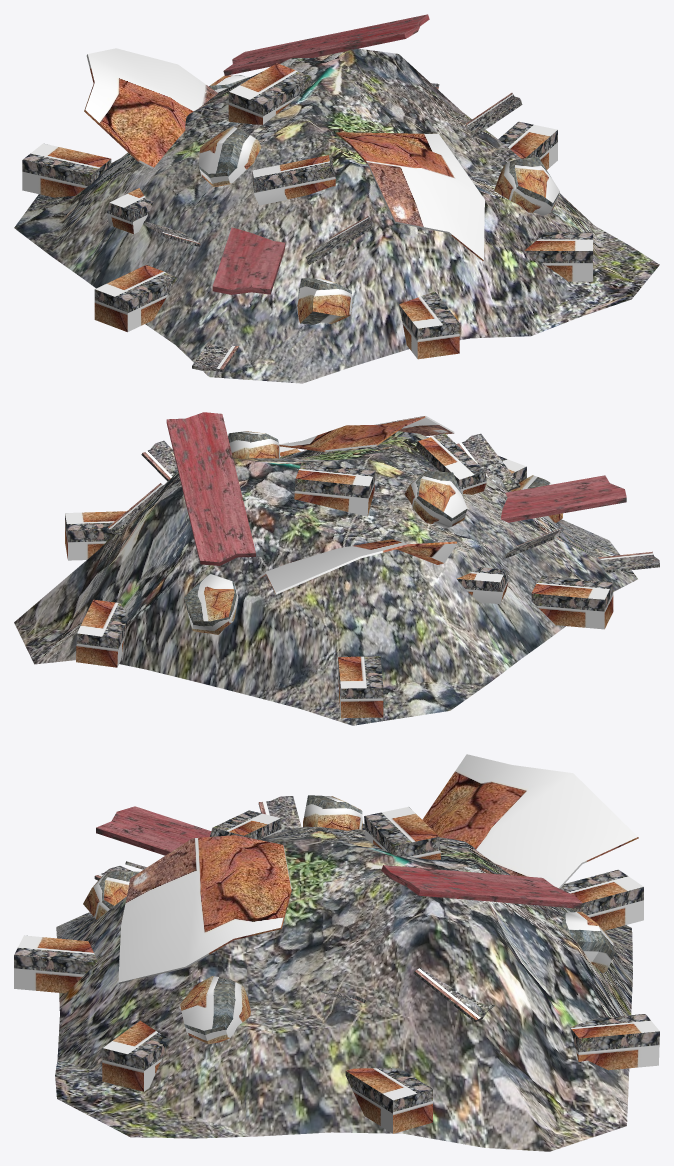
The model's file is smece_3.fbx.
3 views of the same model, one above another, from view 1: azimuth 30°, elevation 25°; view 2: azimuth 150°, elevation 25°; view 3: azimuth 270°, elevation 25° (orthographic). The views are drawn at different scales.
Parts seen in each view (by area): view 1: Plane.002; view 2: Plane.002; view 3: Plane.002.
Boxes of the visible parts, x1,y1,x2,y2 form: Plane.002: (14,14,659,383); Plane.002: (14,412,659,725); Plane.002: (14,754,659,1151).
Bounding box in the file's own units: 367 × 137 × 368.
1 material, 1 textured.
